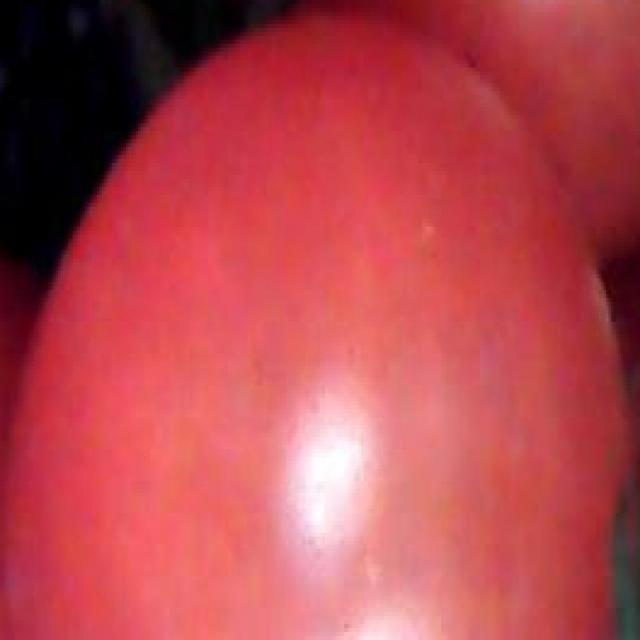Healthy Fruit: (4, 14, 427, 427)
